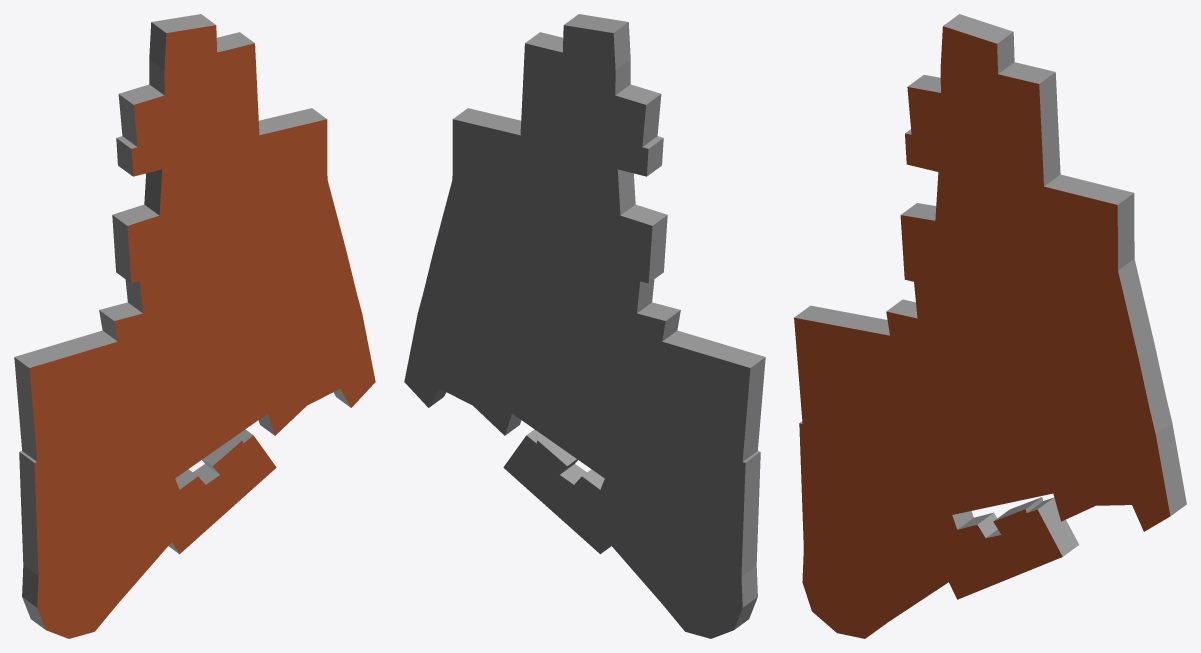
File: construction_5035_assumed_A_Casa_h6m.obj
The picture shows the model from 3 angles, left to right: view 1: azimuth 30°, elevation 25°; view 2: azimuth 150°, elevation 25°; view 3: azimuth 330°, elevation 25°; orthographic projection. The views are drawn at different scales.
Parts seen in each view (by area): view 1: construction_5035_assumed_A_Casa; view 2: construction_5035_assumed_A_Casa; view 3: construction_5035_assumed_A_Casa.
Boxes of the visible parts, <box> form: construction_5035_assumed_A_Casa: <box>14,14,375,638</box>; construction_5035_assumed_A_Casa: <box>404,14,765,638</box>; construction_5035_assumed_A_Casa: <box>794,14,1186,638</box>.
Bounding box in the file's own units: 78.86 × 127 × 6.
